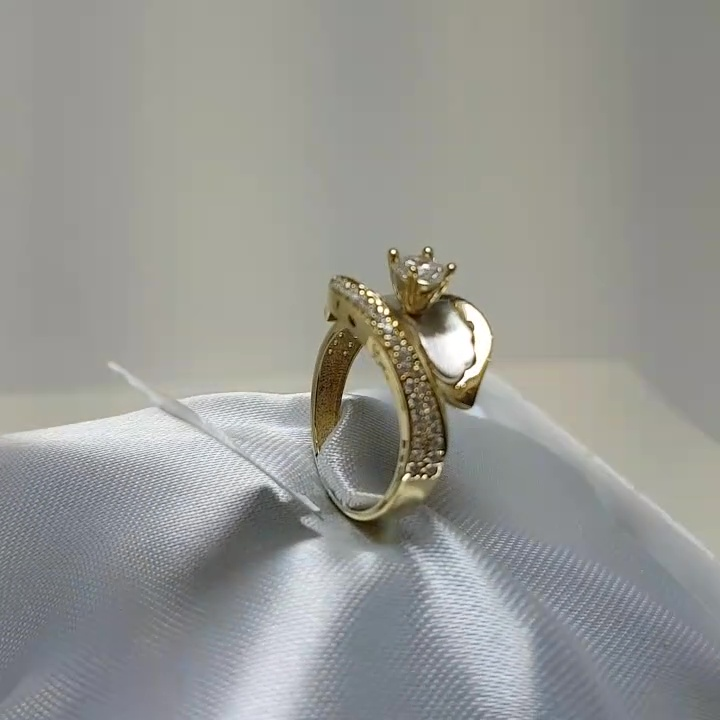Ring 6: (282, 243, 514, 531)
